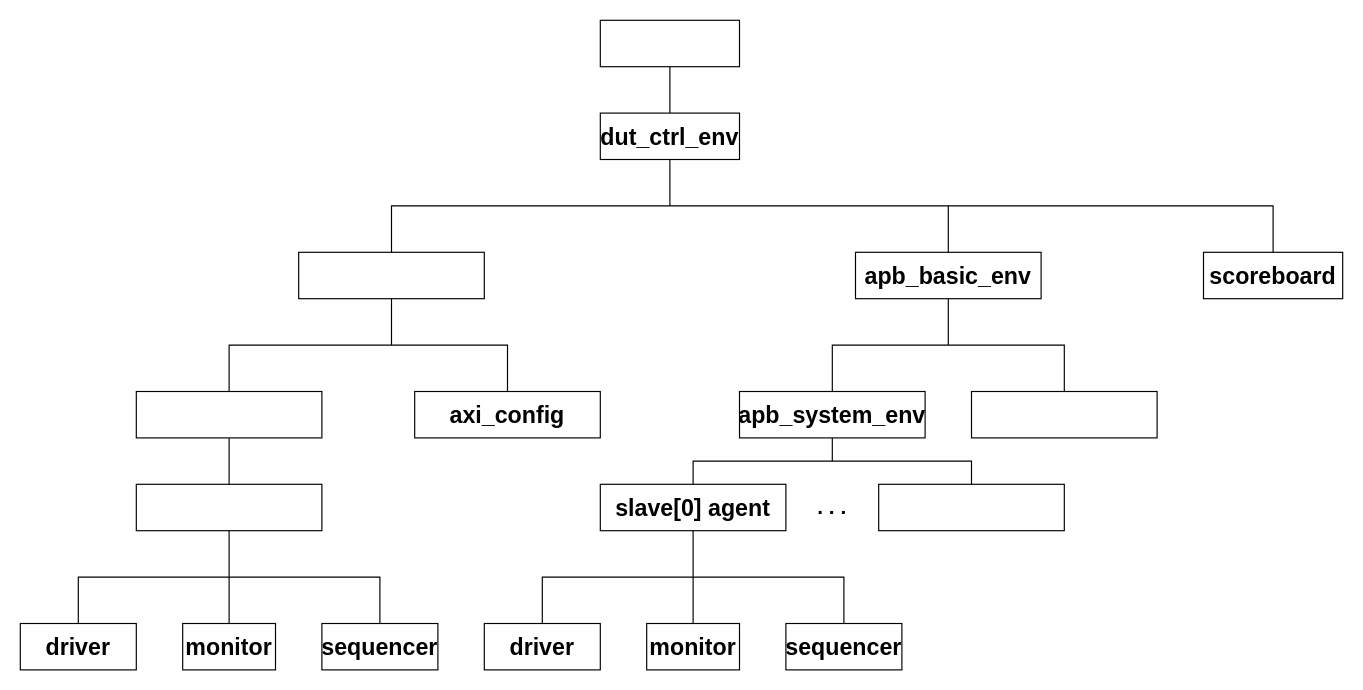
The diagram is 1363 pixels wide and 690 high, and some of its shapes have lost their labels. The shapes that lost their labels are listed below. From the top down, each one's centre as x and y in pixels, then its label:
At point (669, 43): "test_top".
At point (391, 275): "axi_basic_env".
At point (228, 414): "axi_system_env".
At point (1063, 414): "apb_config".
At point (228, 507): "master[0] agent".
At point (971, 507): "slave[3] agent".
